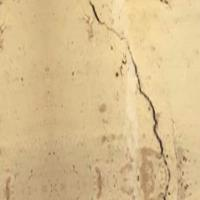crack: (86, 1, 187, 183)
